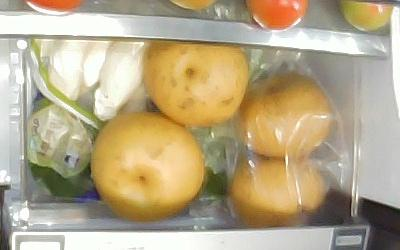pear: (91, 112, 205, 219), (142, 40, 248, 127)
pear_vinyl: (238, 74, 331, 157), (231, 155, 325, 228)
